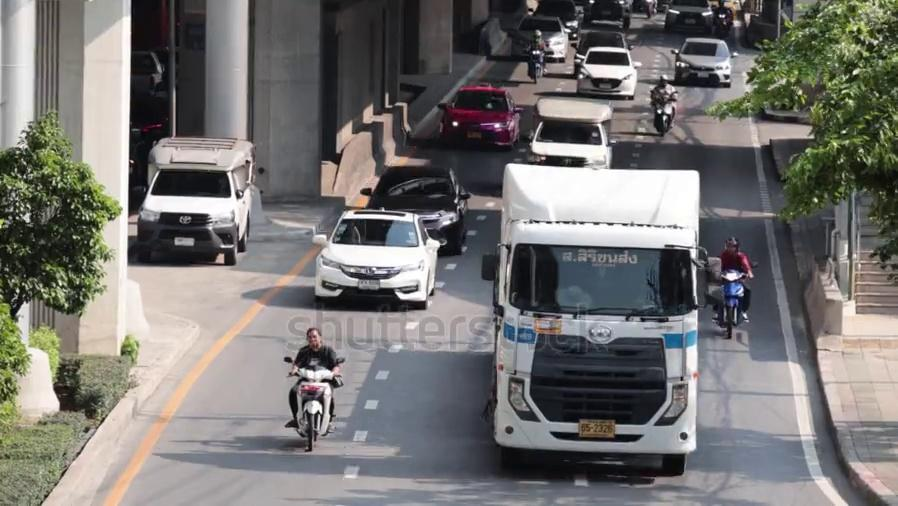rider: (284, 327, 343, 434), (715, 235, 753, 338), (525, 27, 551, 89), (649, 74, 678, 128), (711, 0, 736, 42)
with_helmate: (722, 235, 741, 255), (657, 76, 671, 86), (532, 31, 544, 41), (716, 0, 729, 9)
without_helmate: (301, 326, 324, 344)
